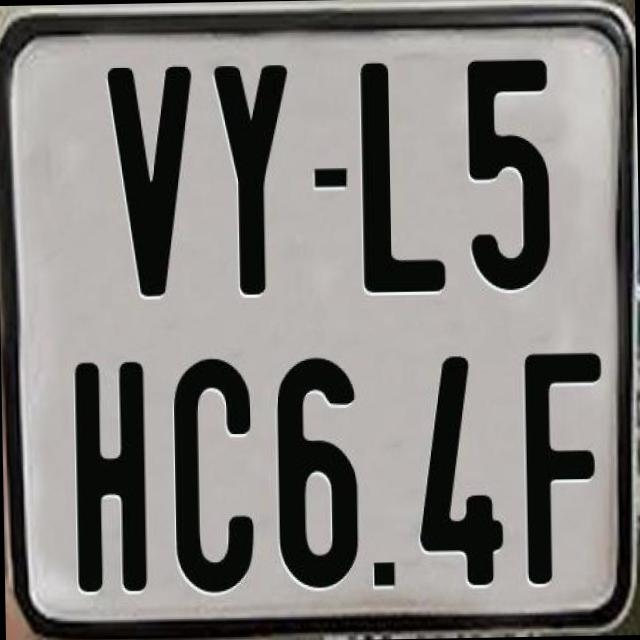4: (416, 355, 504, 587)
5: (463, 58, 549, 290)
6: (272, 354, 364, 588)
C: (171, 355, 254, 596)
F: (520, 348, 608, 580)
H: (74, 356, 148, 592)
L: (359, 59, 445, 298)
V: (108, 62, 194, 294)
Y: (208, 61, 290, 301)
